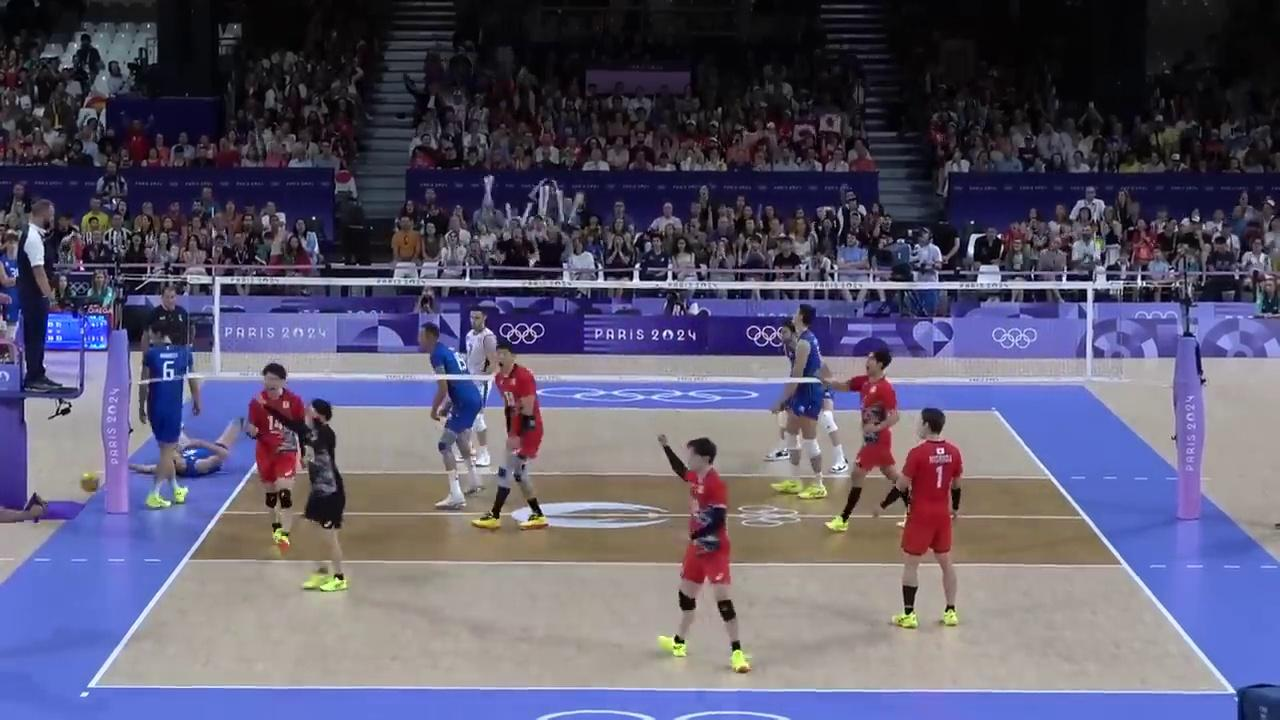ball: (83, 475, 99, 493)
